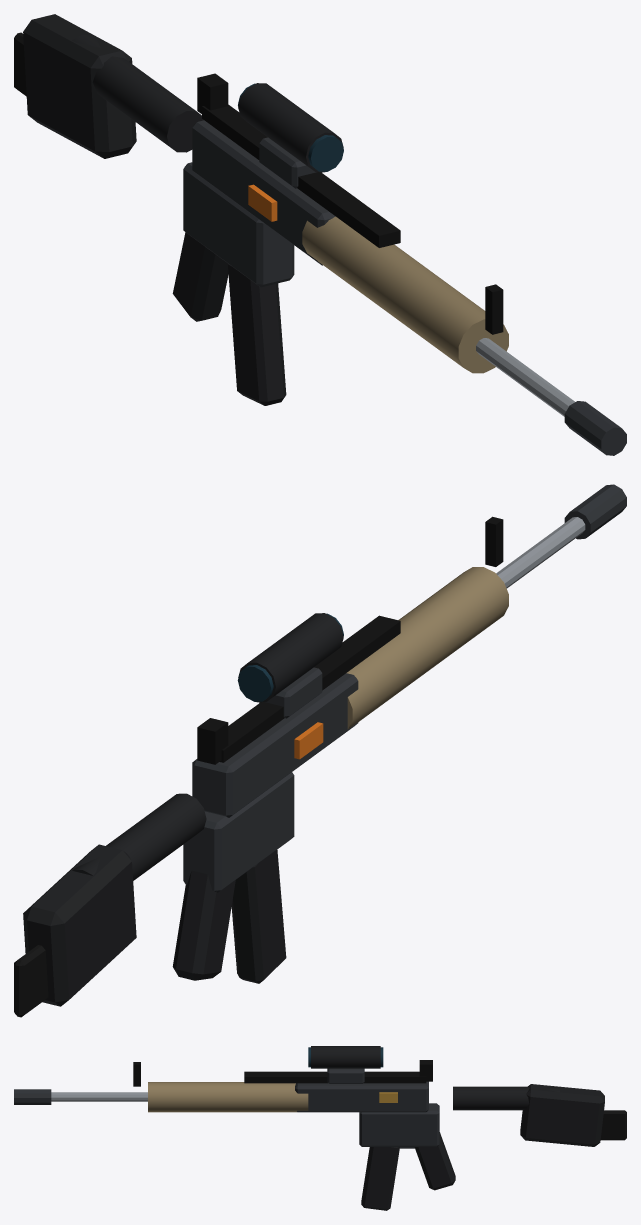
File: SM_Rifle_Asalto.fbx
The picture shows the model from 3 angles, top to bottom: view 1: azimuth 30°, elevation 25°; view 2: azimuth 150°, elevation 25°; view 3: azimuth 270°, elevation 25°; orthographic projection. The views are drawn at different scales.
Parts seen in each view (by area): view 1: SM_Rifle_Asalto; view 2: SM_Rifle_Asalto; view 3: SM_Rifle_Asalto.
Boxes of the visible parts, x1,y1,x2,y2 form: SM_Rifle_Asalto: (14,14,626,455); SM_Rifle_Asalto: (14,484,626,1017); SM_Rifle_Asalto: (14,1046,626,1210).
Bounding box in the file's own units: 0.045 × 0.916 × 0.2666.
